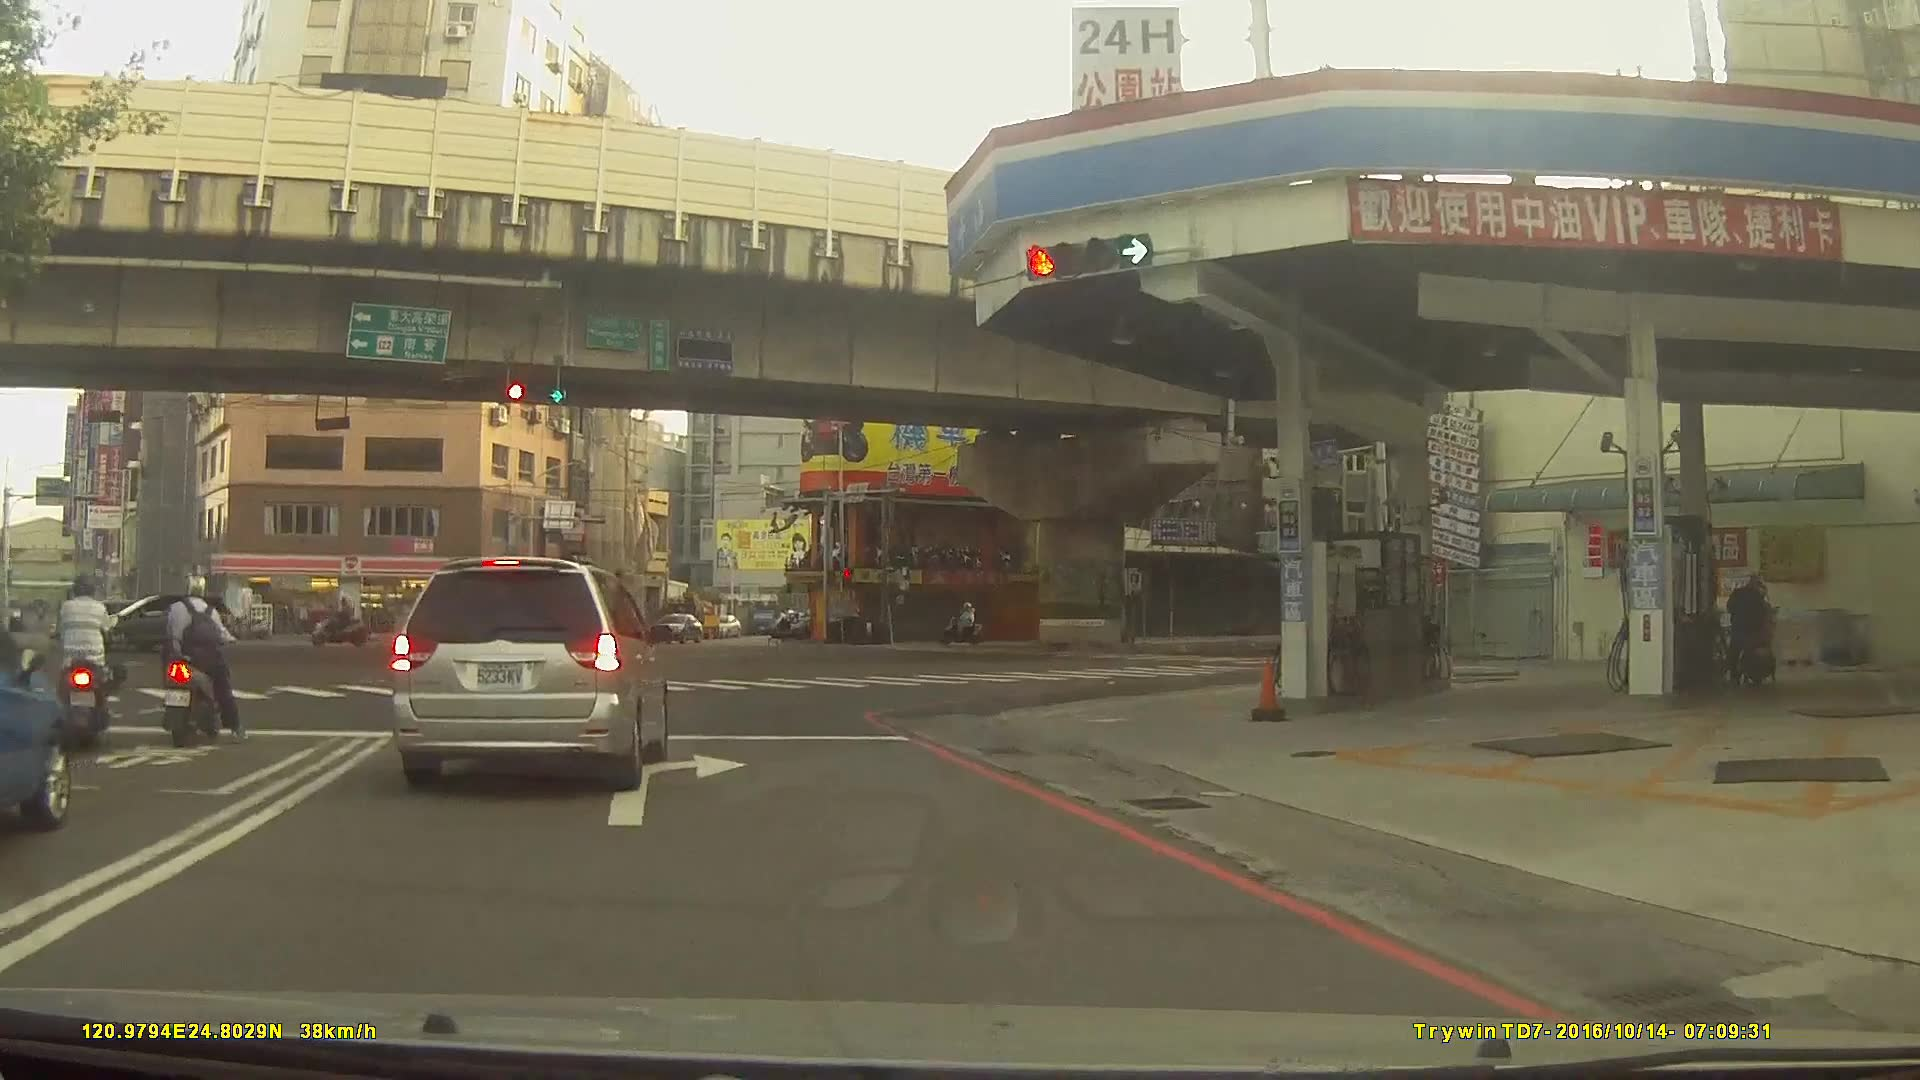rider: (161, 575, 244, 749), (52, 575, 126, 750), (305, 595, 375, 651), (943, 603, 981, 646)
vehicle: (389, 555, 672, 790), (0, 623, 70, 839), (79, 591, 234, 650), (653, 611, 706, 643), (543, 606, 605, 633)
